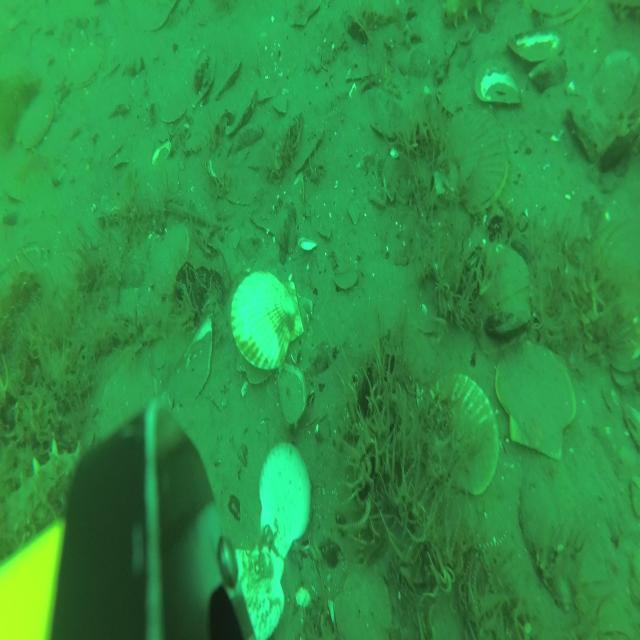holothurian: (1, 436, 82, 549), (442, 1, 481, 26)
scallop: (494, 332, 578, 462), (425, 375, 500, 497), (228, 266, 304, 379), (441, 108, 511, 212), (472, 236, 534, 337), (258, 440, 310, 558), (230, 539, 287, 640), (332, 562, 391, 640), (148, 226, 190, 299), (14, 88, 55, 150)
